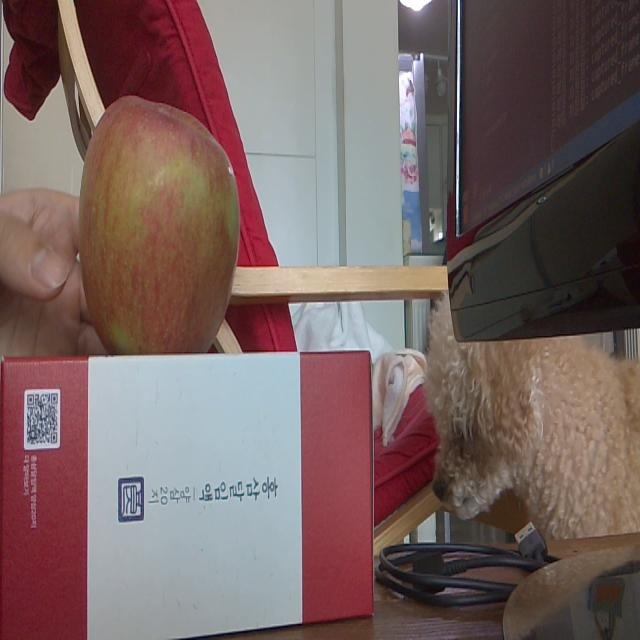apple: (78, 99, 242, 353)
